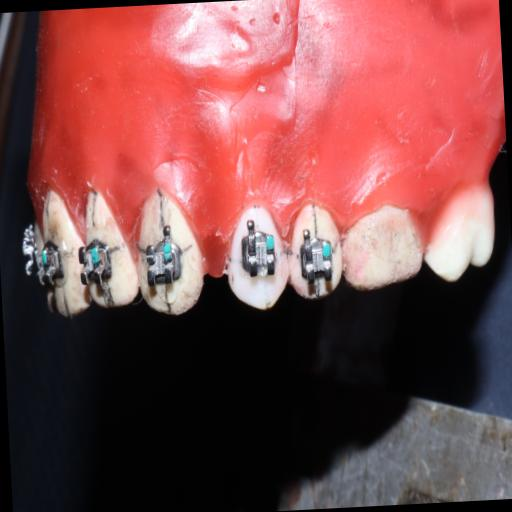correct_brace: (220, 194, 294, 322)
incorrect_brace: (236, 216, 280, 286)
